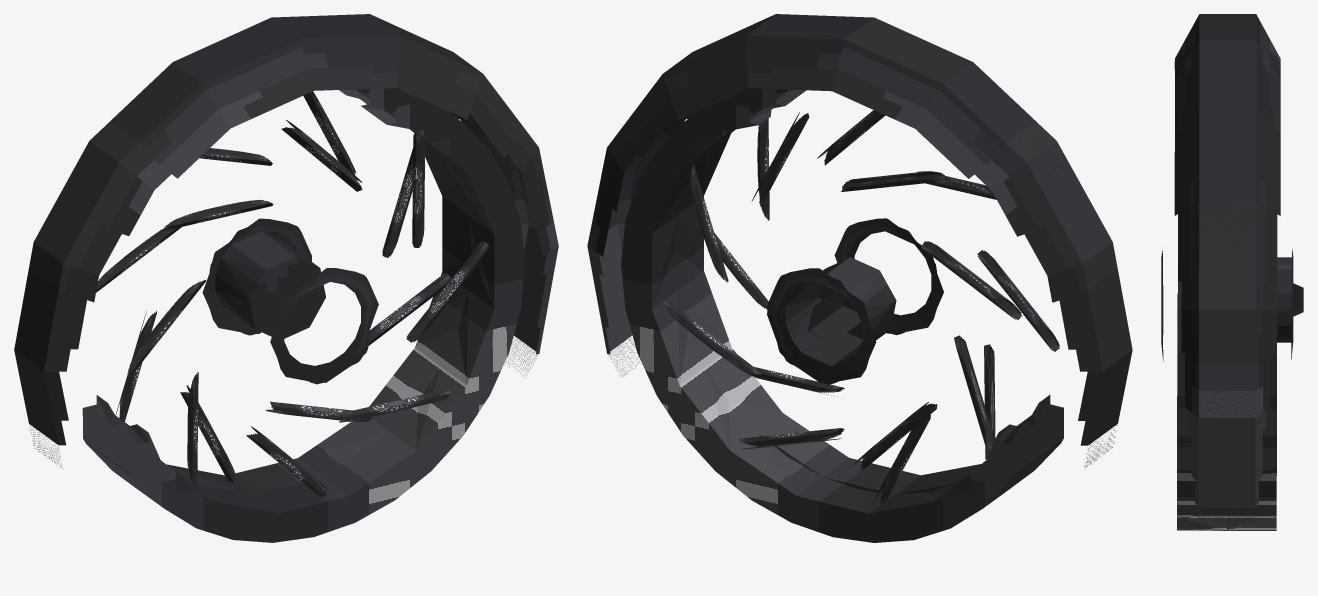
The picture shows the model from 3 angles, left to right: view 1: azimuth 30°, elevation 25°; view 2: azimuth 150°, elevation 25°; view 3: azimuth 270°, elevation 25°; orthographic projection. The views are drawn at different scales.
Parts seen in each view (by area): view 1: Tyre_Tyre_0, Rim002_cylincer_0, Inner-Tyre001_Connection_0, Middle-Tyre001_Tyre-Middle_0, Middle-Tyre_Tyre-Middle_0; view 2: Tyre_Tyre_0, Rim002_cylincer_0, Inner-Tyre001_Connection_0, Middle-Tyre_Tyre-Middle_0, Middle-Tyre001_Tyre-Middle_0; view 3: Tyre_Tyre_0, Rim002_cylincer_0, Inner-Tyre001_Connection_0.
Part boxes in pixels (x1=…): Tyre_Tyre_0: x1=14, y1=14, x2=558, y2=467; Rim002_cylincer_0: x1=82, y1=88, x2=524, y2=542; Inner-Tyre001_Connection_0: x1=202, y1=218, x2=378, y2=384; Middle-Tyre001_Tyre-Middle_0: x1=127, y1=120, x2=488, y2=496; Middle-Tyre_Tyre-Middle_0: x1=96, y1=91, x2=450, y2=482; Tyre_Tyre_0: x1=587, y1=14, x2=1132, y2=467; Rim002_cylincer_0: x1=621, y1=88, x2=1063, y2=542; Inner-Tyre001_Connection_0: x1=767, y1=218, x2=943, y2=384; Middle-Tyre_Tyre-Middle_0: x1=663, y1=112, x2=1022, y2=506; Middle-Tyre001_Tyre-Middle_0: x1=698, y1=110, x2=1059, y2=469; Tyre_Tyre_0: x1=1174, y1=14, x2=1280, y2=521; Rim002_cylincer_0: x1=1177, y1=214, x2=1277, y2=530; Inner-Tyre001_Connection_0: x1=1161, y1=249, x2=1303, y2=361.
Bounding box in the file's own units: 0.5531 × 0.5532 × 0.1387.
Materials: 1 (1 with a texture image).
